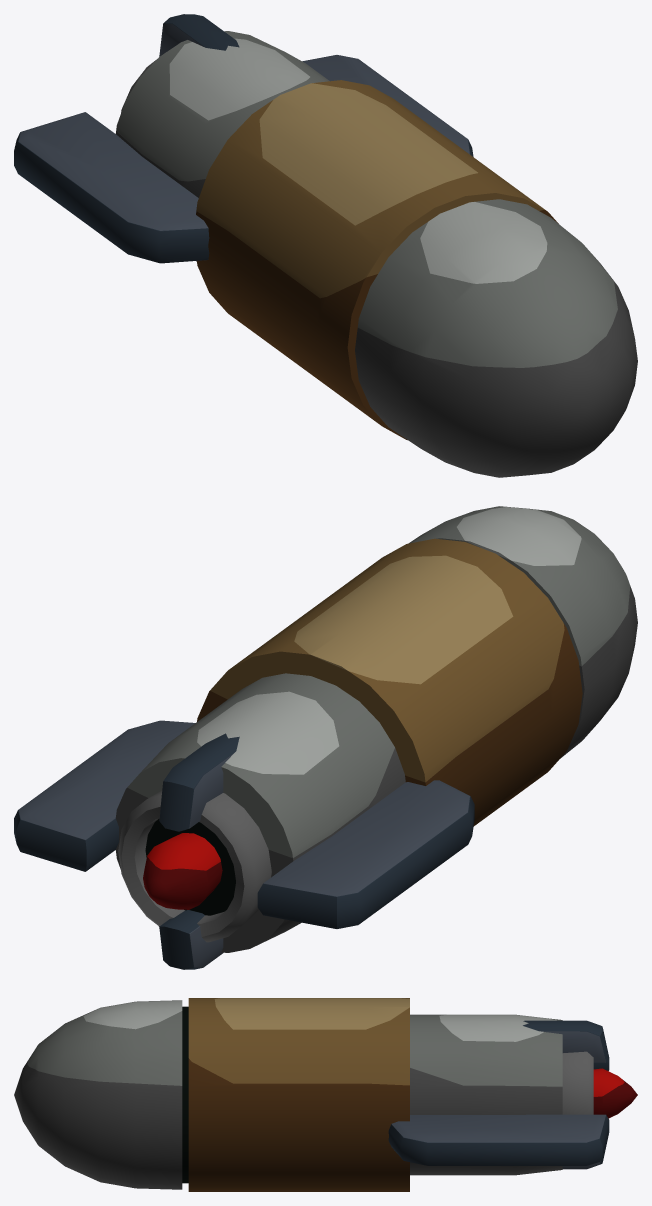
File: slot_rocket.glb
3 renders of one model, top to bottom at view 1: azimuth 30°, elevation 25°; view 2: azimuth 150°, elevation 25°; view 3: azimuth 270°, elevation 25°, orthographic. The views are drawn at different scales.
Parts seen in each view (by area): view 1: slot_rocket; view 2: slot_rocket; view 3: slot_rocket.
Boxes of the visible parts, left/top/right/bottom form: slot_rocket: left=14, top=14, right=637, bottom=477; slot_rocket: left=14, top=506, right=637, bottom=969; slot_rocket: left=14, top=998, right=637, bottom=1191.
Size of the model in its own units: 6.5 by 4.4 by 14.1.
